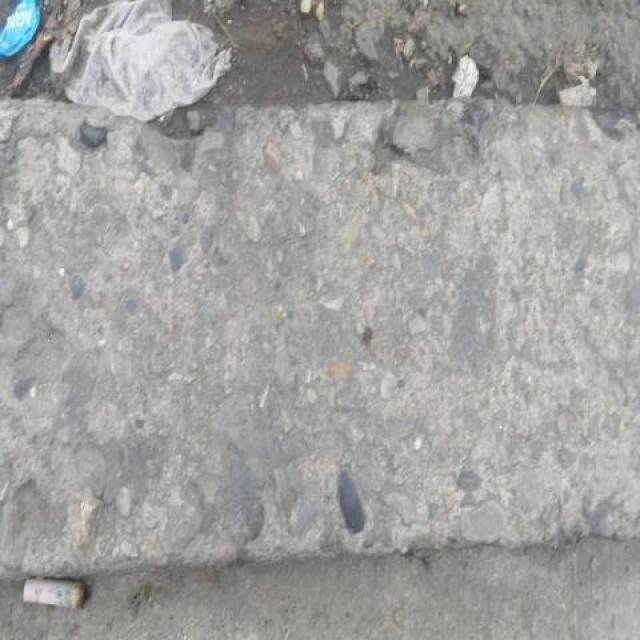non-organic waste: (18, 570, 98, 618)
